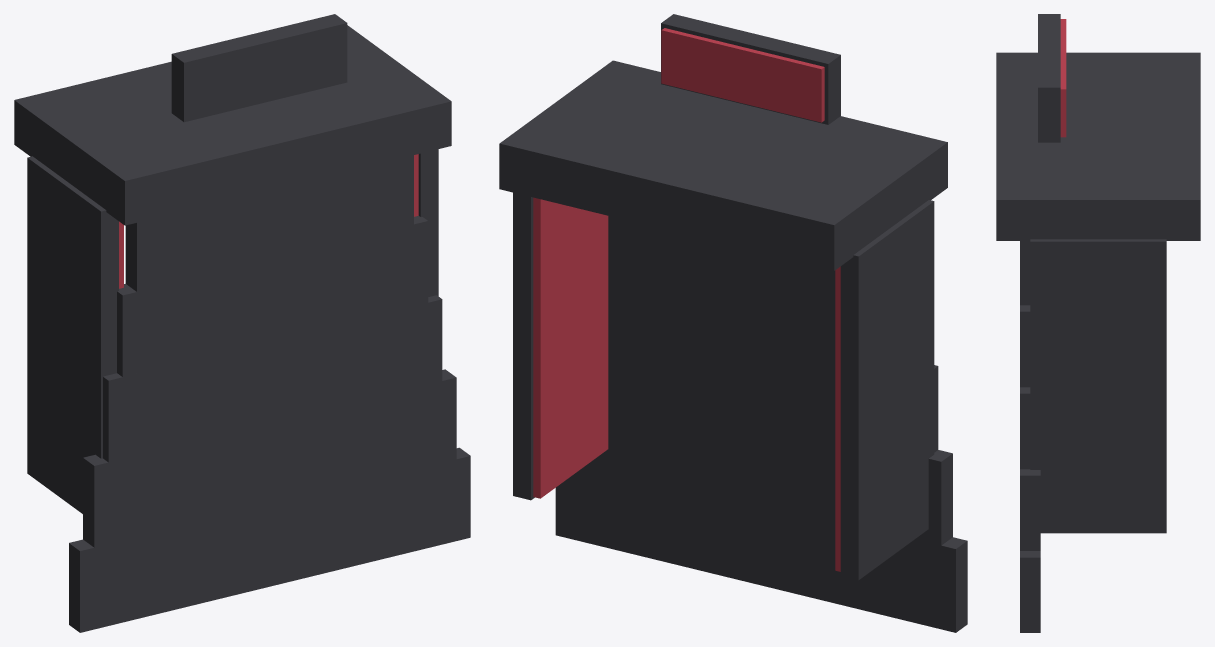
File: capa_opera.glb
The picture shows the model from 3 angles, left to right: view 1: azimuth 30°, elevation 25°; view 2: azimuth 150°, elevation 25°; view 3: azimuth 270°, elevation 25°; orthographic projection. The views are drawn at different scales.
Visible parts, largest first — view 1: capa_opera; view 2: capa_opera; view 3: capa_opera.
Part boxes in pixels (x1=…): capa_opera: x1=14, y1=14, x2=470, y2=632; capa_opera: x1=499, y1=14, x2=967, y2=632; capa_opera: x1=996, y1=14, x2=1200, y2=632.
Size of the model in its own units: 1.1 by 1.44 by 0.54.
